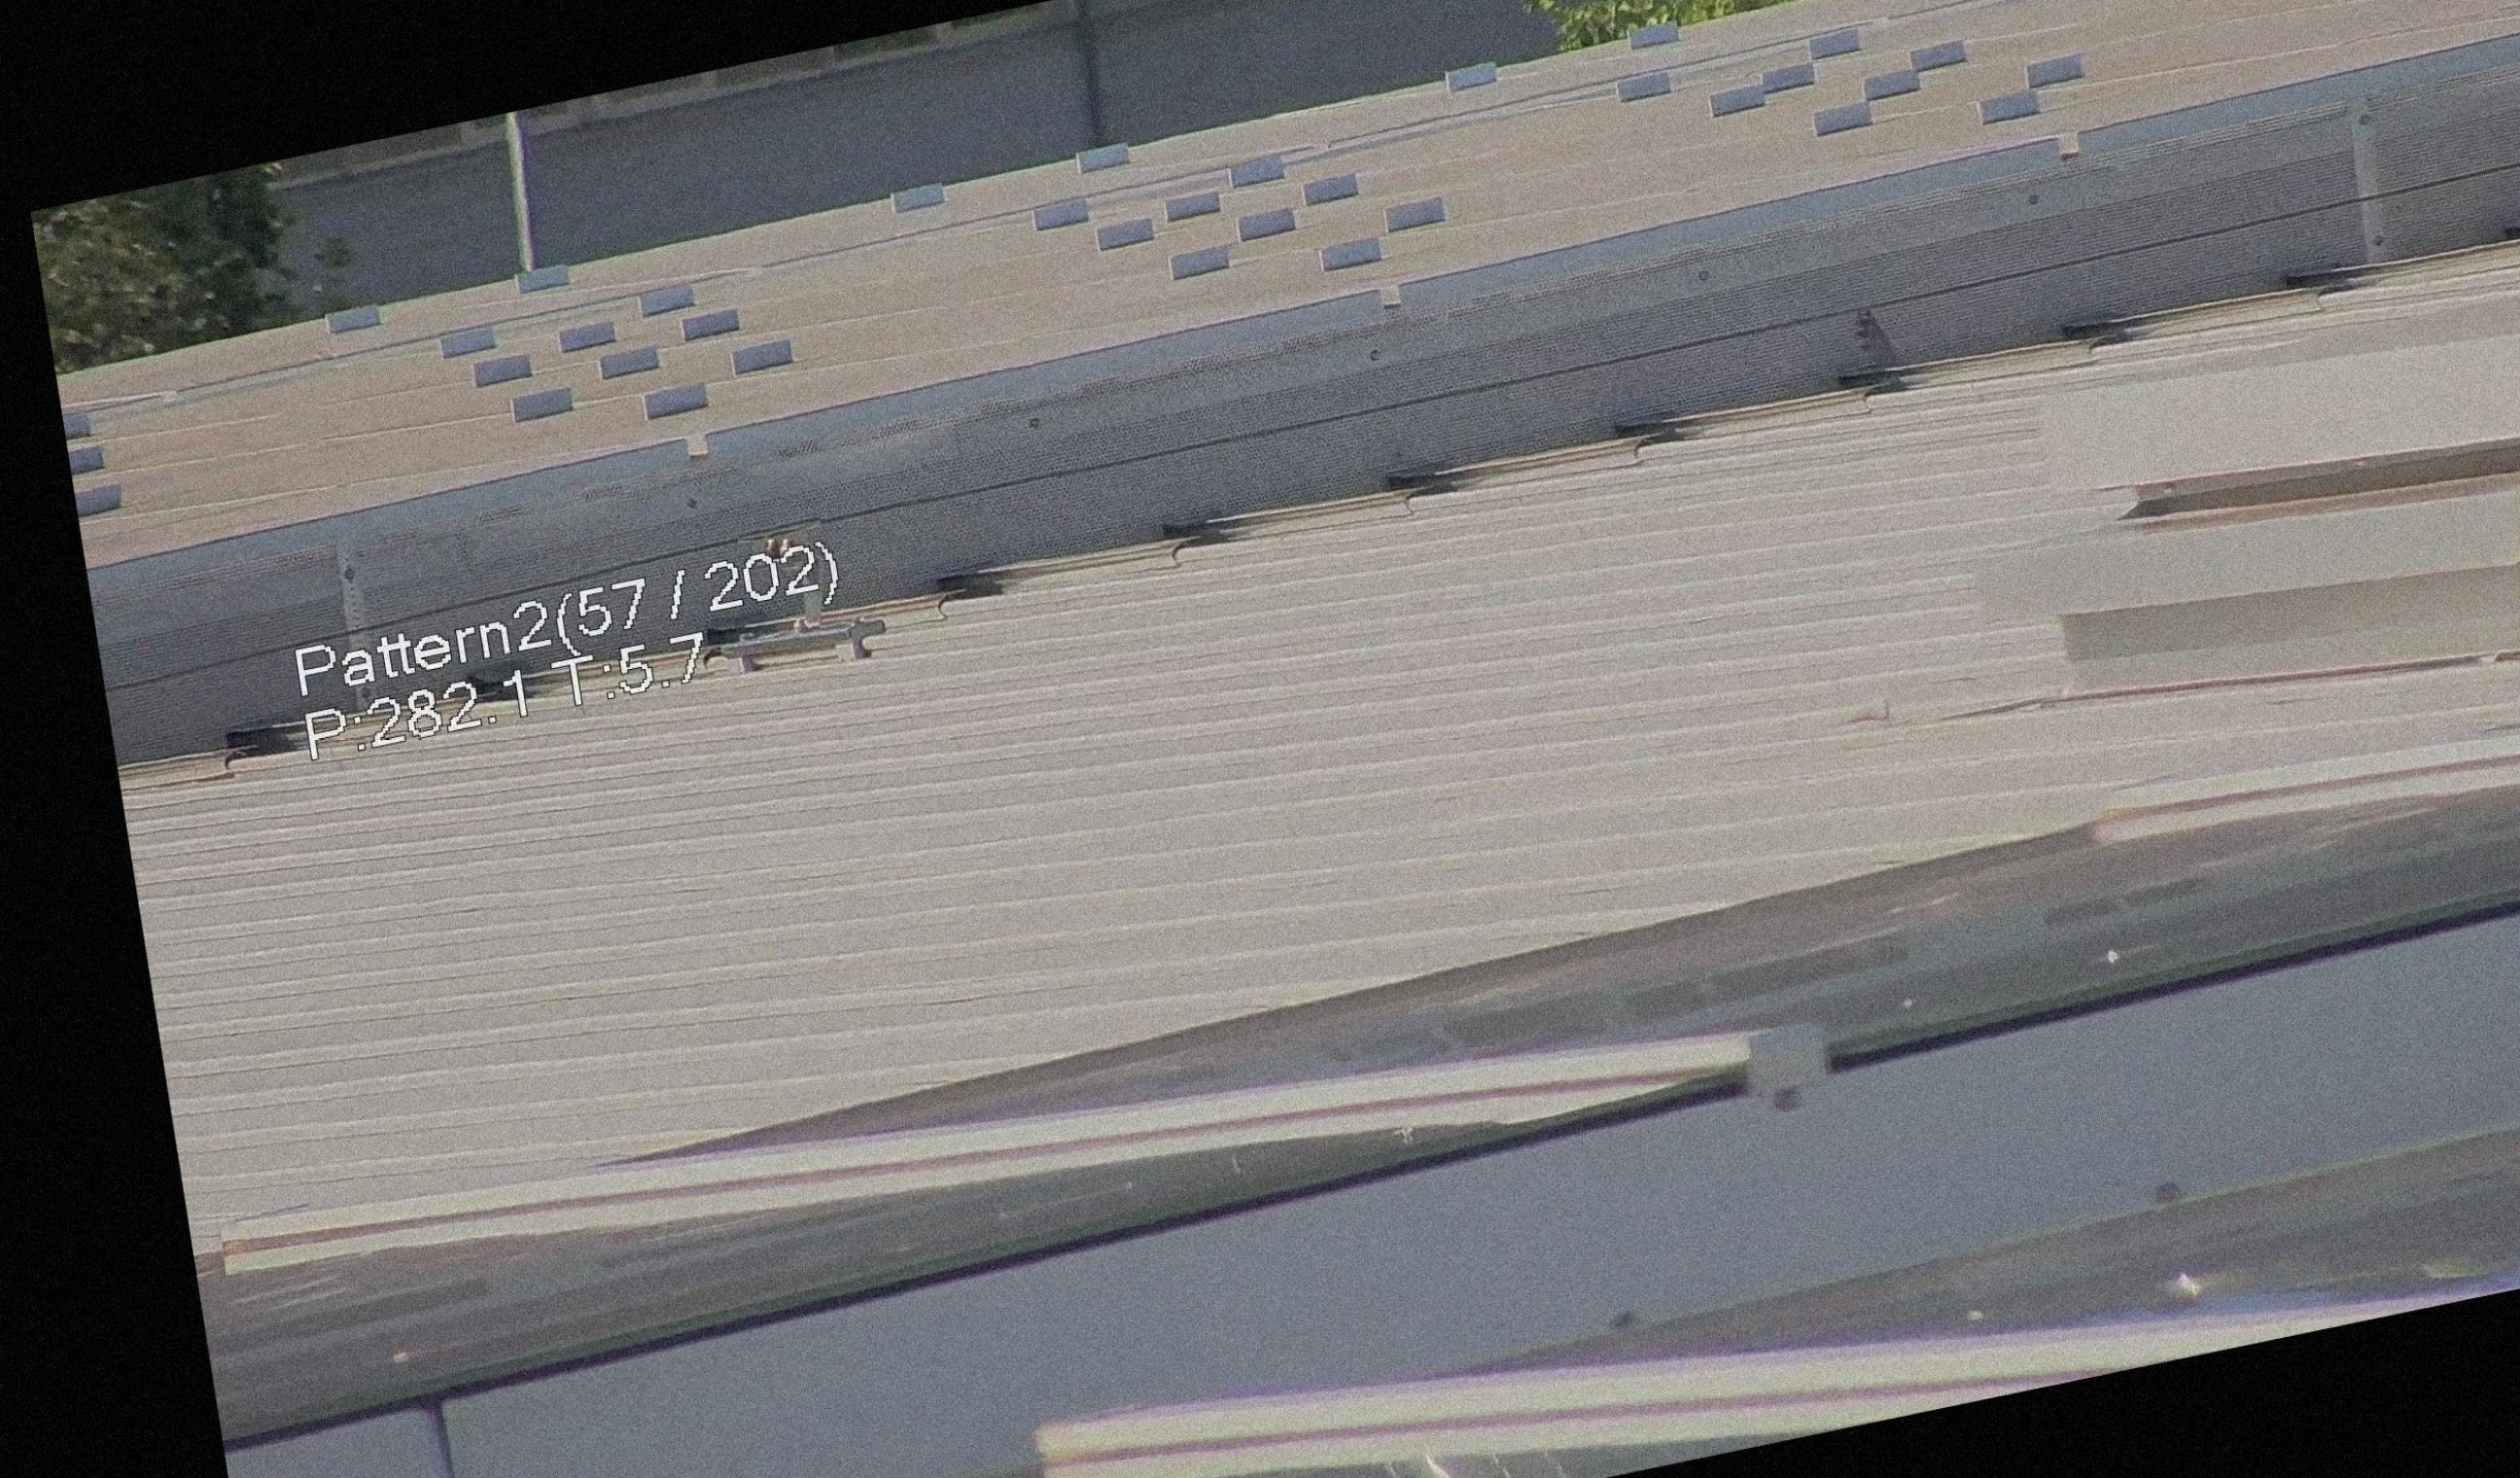Other: (1827, 267, 1936, 405)
